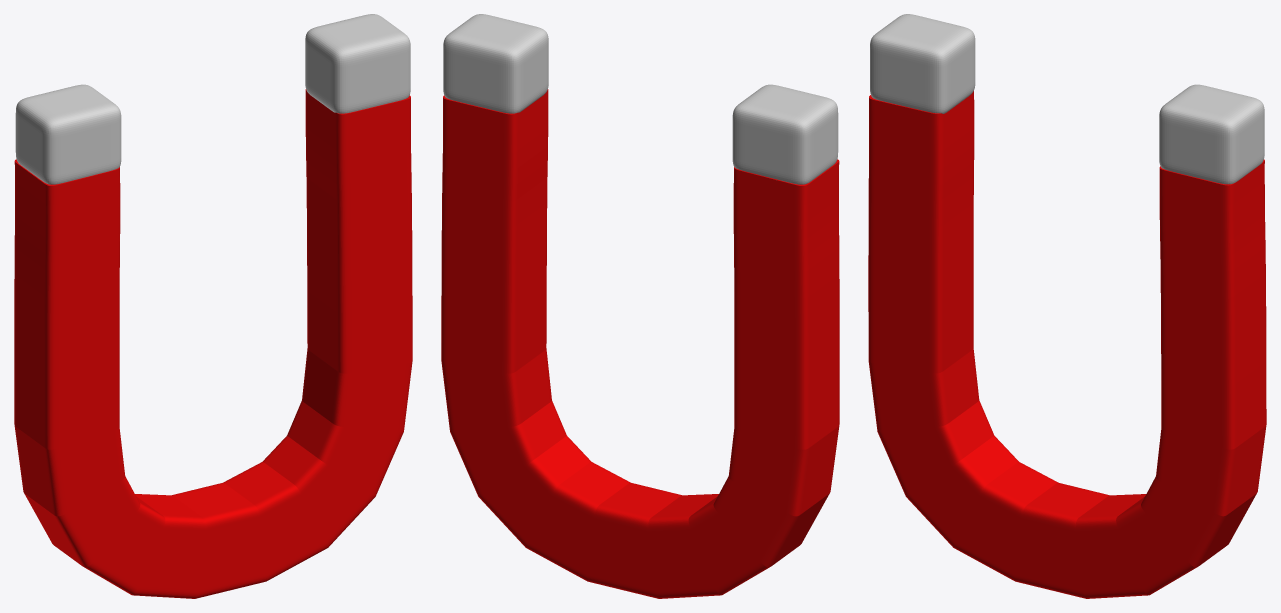
File: magnet.obj
3 renders of one model, left to right at view 1: azimuth 30°, elevation 25°; view 2: azimuth 150°, elevation 25°; view 3: azimuth 330°, elevation 25°, orthographic.
Visible parts, largest first — view 1: Cube_Cube.002; view 2: Cube_Cube.002; view 3: Cube_Cube.002.
Boxes of the visible parts, x1,y1,x2,y2 form: Cube_Cube.002: (14,14,412,598); Cube_Cube.002: (441,14,839,598); Cube_Cube.002: (868,14,1266,598).
Size of the model in its own units: 1.7 by 2.27 by 0.3.
